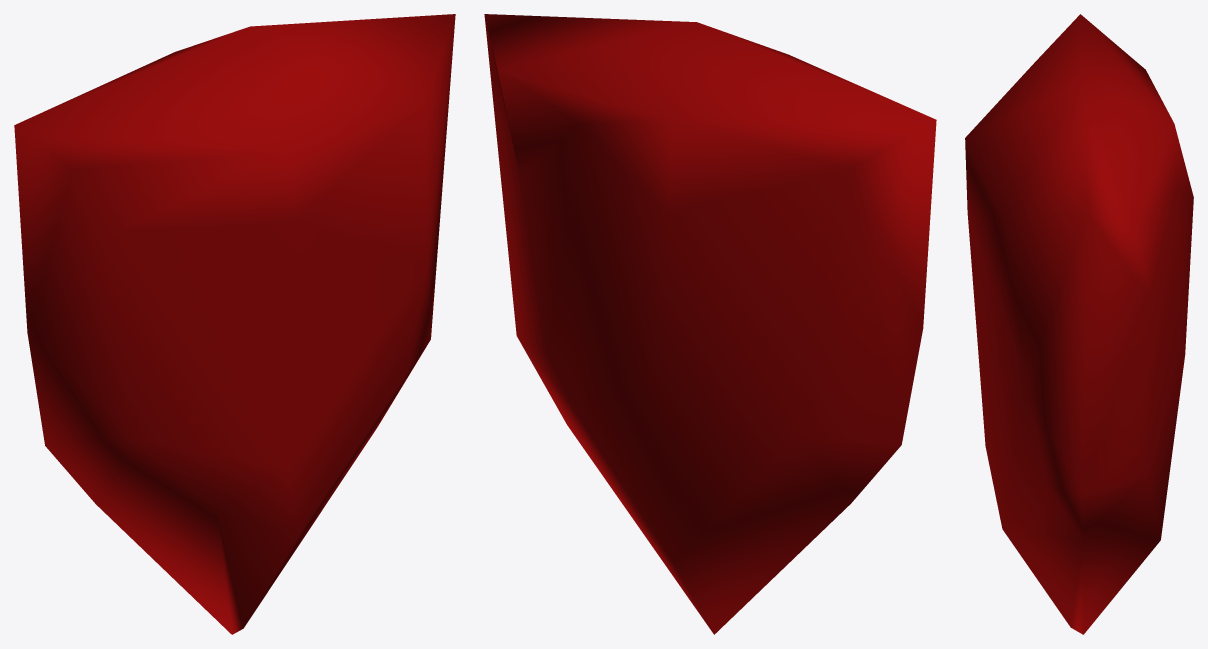
File: Armor_Crystal_Small.gltf
3 renders of one model, left to right at view 1: azimuth 30°, elevation 25°; view 2: azimuth 150°, elevation 25°; view 3: azimuth 270°, elevation 25°, orthographic. The views are drawn at different scales.
Parts seen in each view (by area): view 1: Armor_Crystal_Small; view 2: Armor_Crystal_Small; view 3: Armor_Crystal_Small.
Boxes of the visible parts, <box> form: Armor_Crystal_Small: <box>14,14,455,634</box>; Armor_Crystal_Small: <box>484,14,936,634</box>; Armor_Crystal_Small: <box>965,14,1193,634</box>.
Bounding box in the file's own units: 0.2606 × 0.338 × 0.1254.
